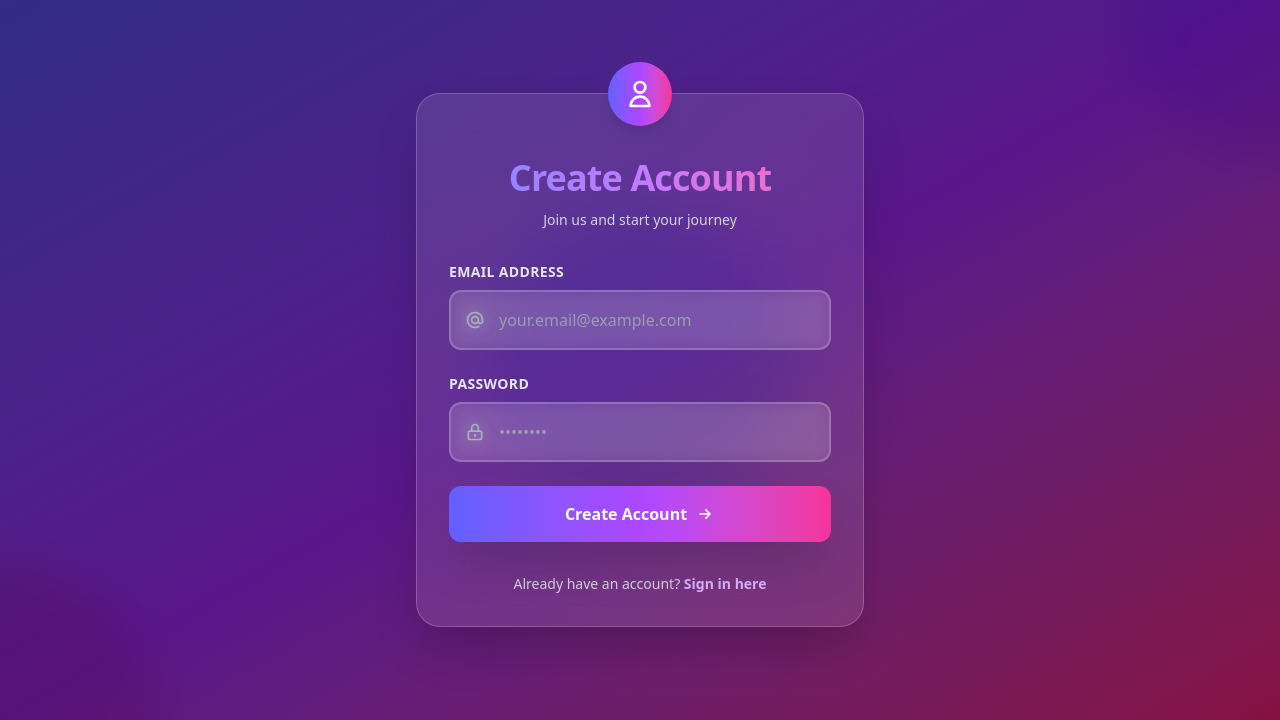
Test: Register Component › shows error message on API failure
Type "user@example.com" into the field labelled "Email Address" at (640, 320), box [449, 290, 831, 350]
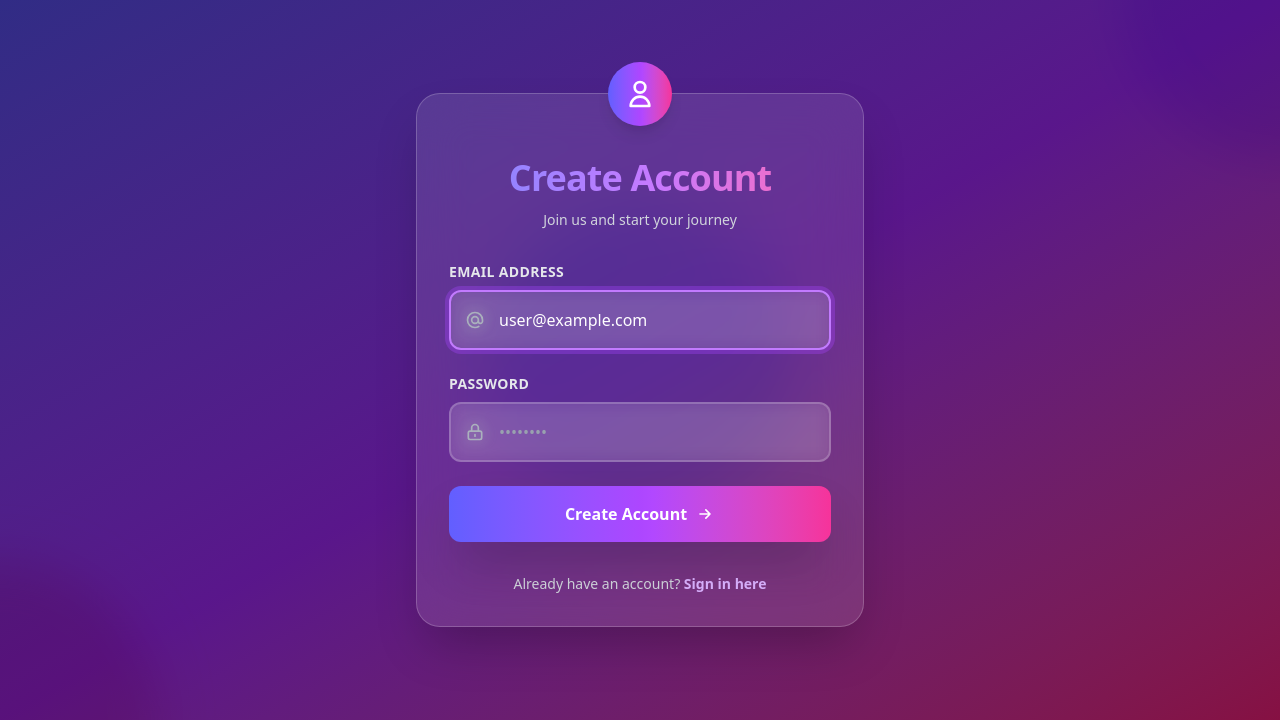
Type "password123" into the password field labelled "Password" at (640, 432), box [449, 402, 831, 462]
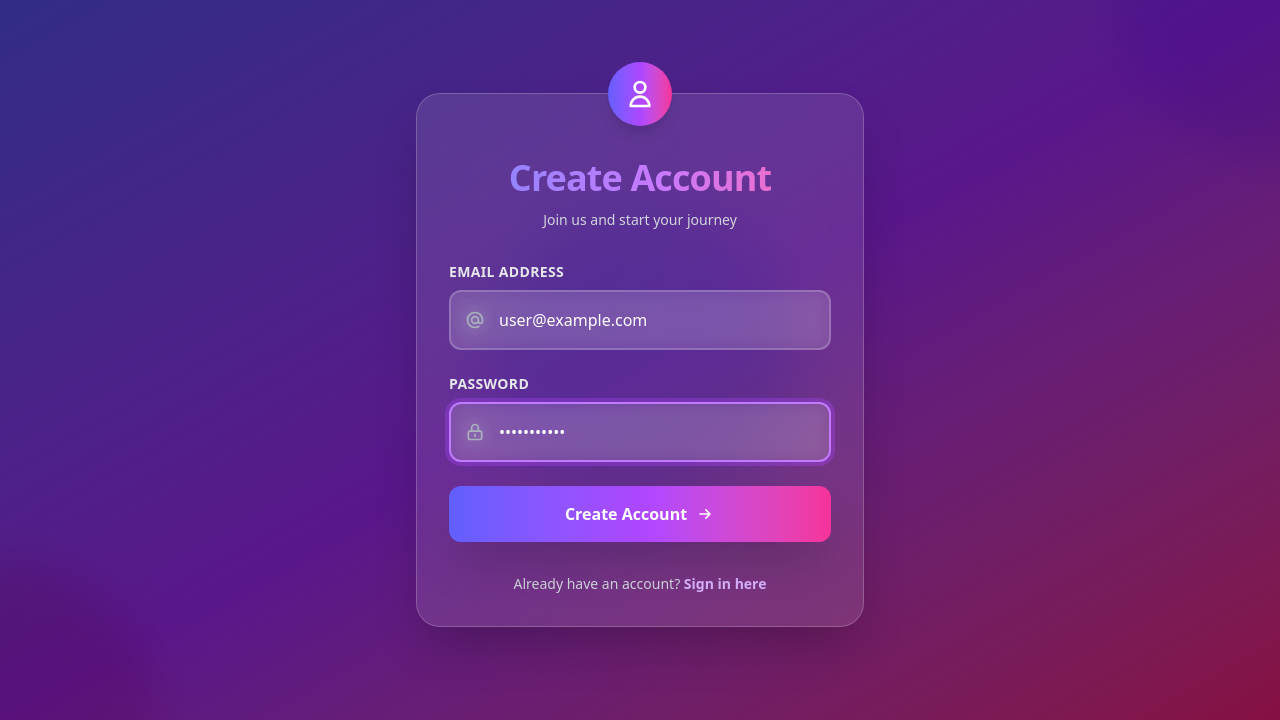
Click the button "Create Account" at (640, 514), box [449, 486, 831, 542]
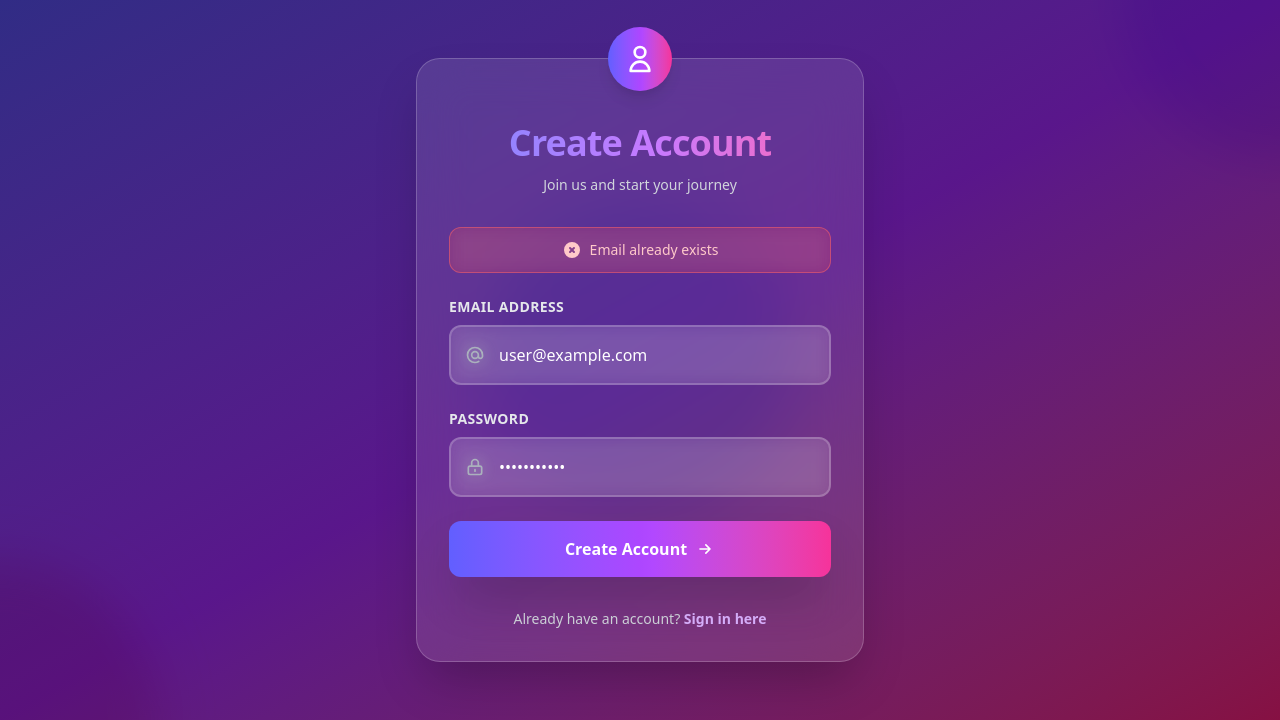
Now the text "Email already exists" is shown, box [562, 240, 718, 260]
